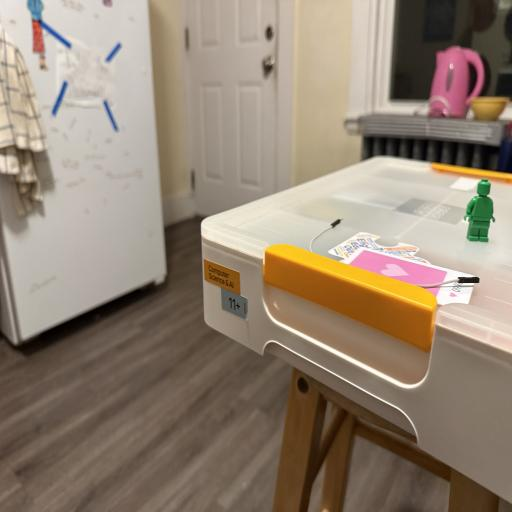Minifig: (464, 179, 495, 242)
